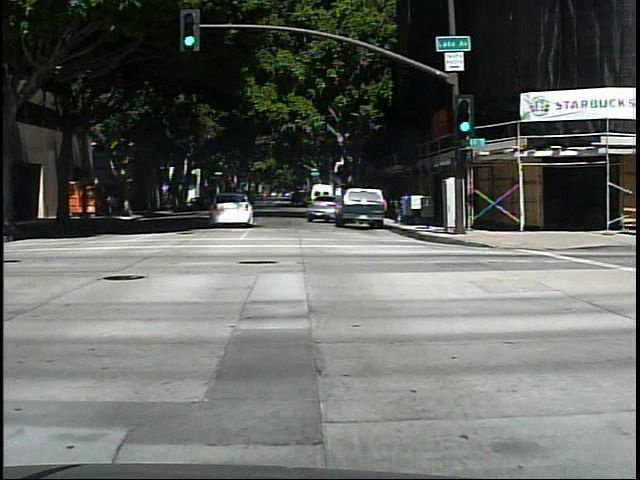person: (101, 185, 118, 220)
